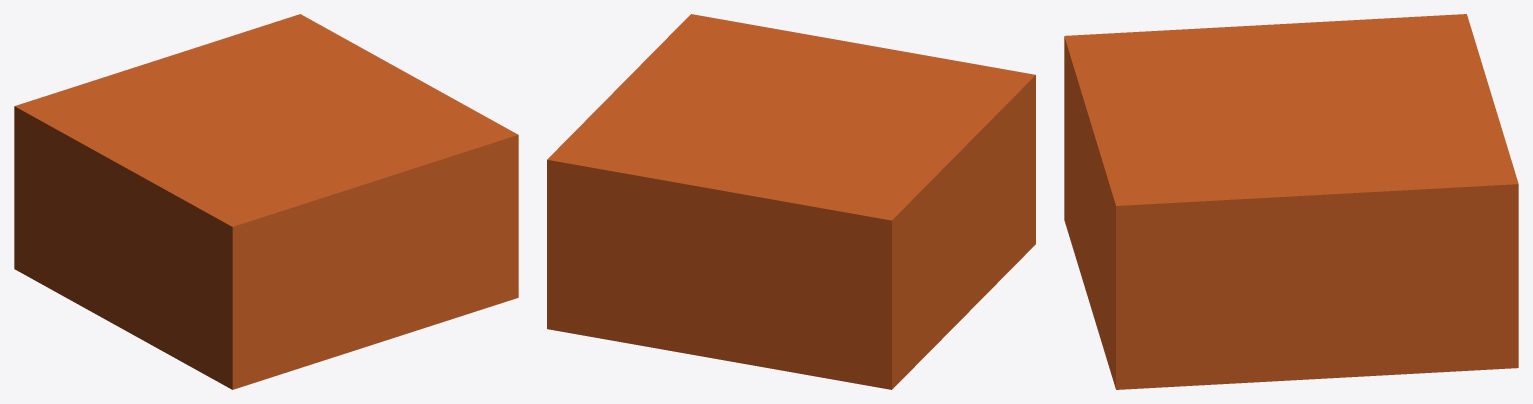
3 renders of one model, left to right at view 1: azimuth 30°, elevation 25°; view 2: azimuth 150°, elevation 25°; view 3: azimuth 270°, elevation 25°, orthographic. The views are drawn at different scales.
Parts seen in each view (by area): view 1: Box_3; view 2: Box_3; view 3: Box_3.
Boxes of the visible parts, x1,y1,x2,y2 form: Box_3: (14,14,518,389); Box_3: (547,14,1035,389); Box_3: (1064,14,1518,389).
Bounding box in the file's own units: 55.98 × 25 × 55.98.
